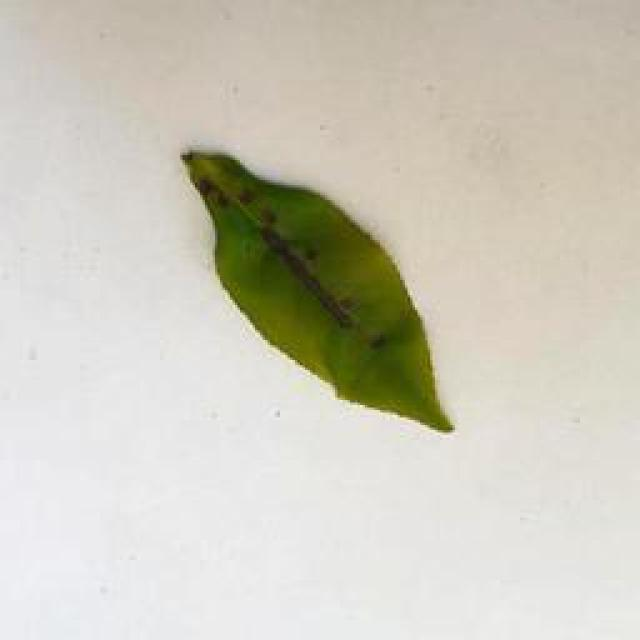Helopeltis: (180, 148, 456, 445)
